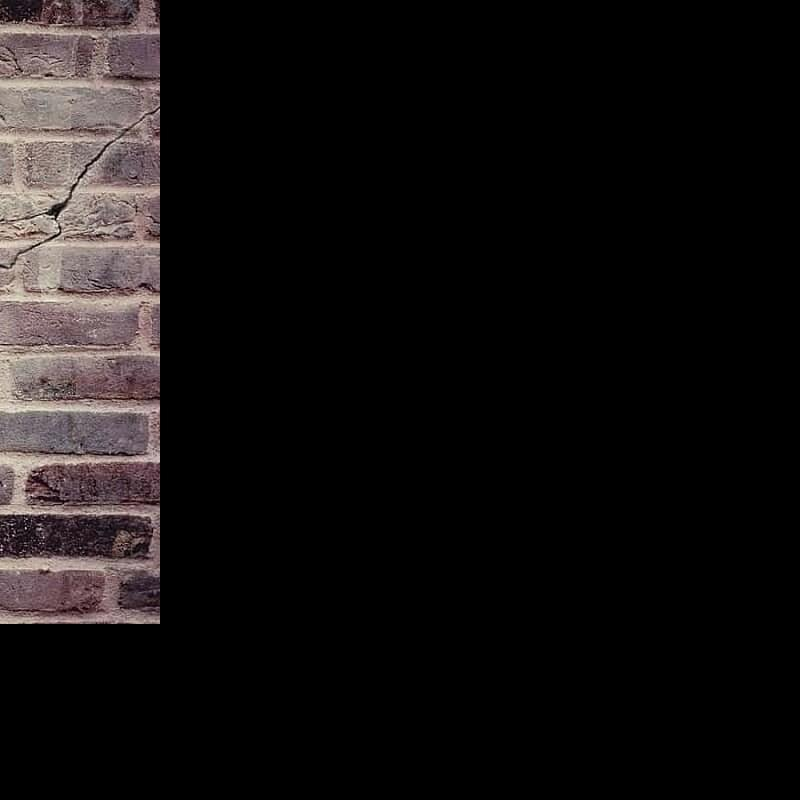pothole: (0, 105, 162, 272)
